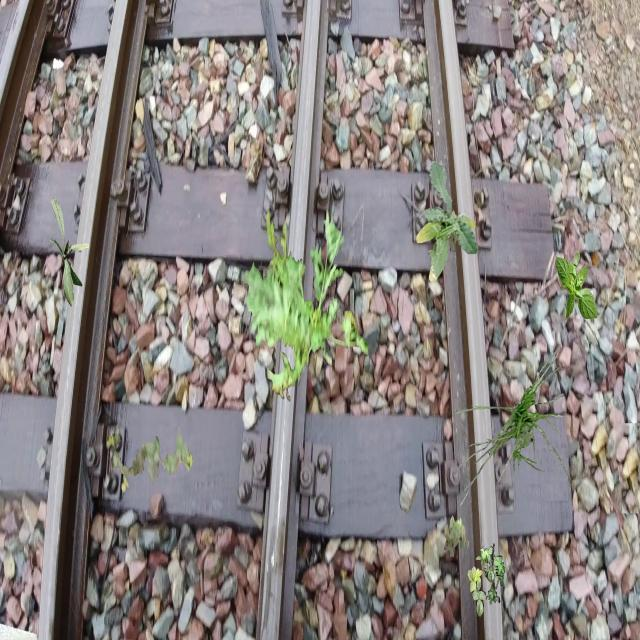Plant: (244, 206, 369, 402), (453, 344, 572, 508), (416, 161, 478, 286), (107, 424, 194, 492), (50, 197, 90, 307), (556, 251, 598, 322), (468, 543, 506, 616), (444, 515, 470, 558), (445, 210, 471, 252)
